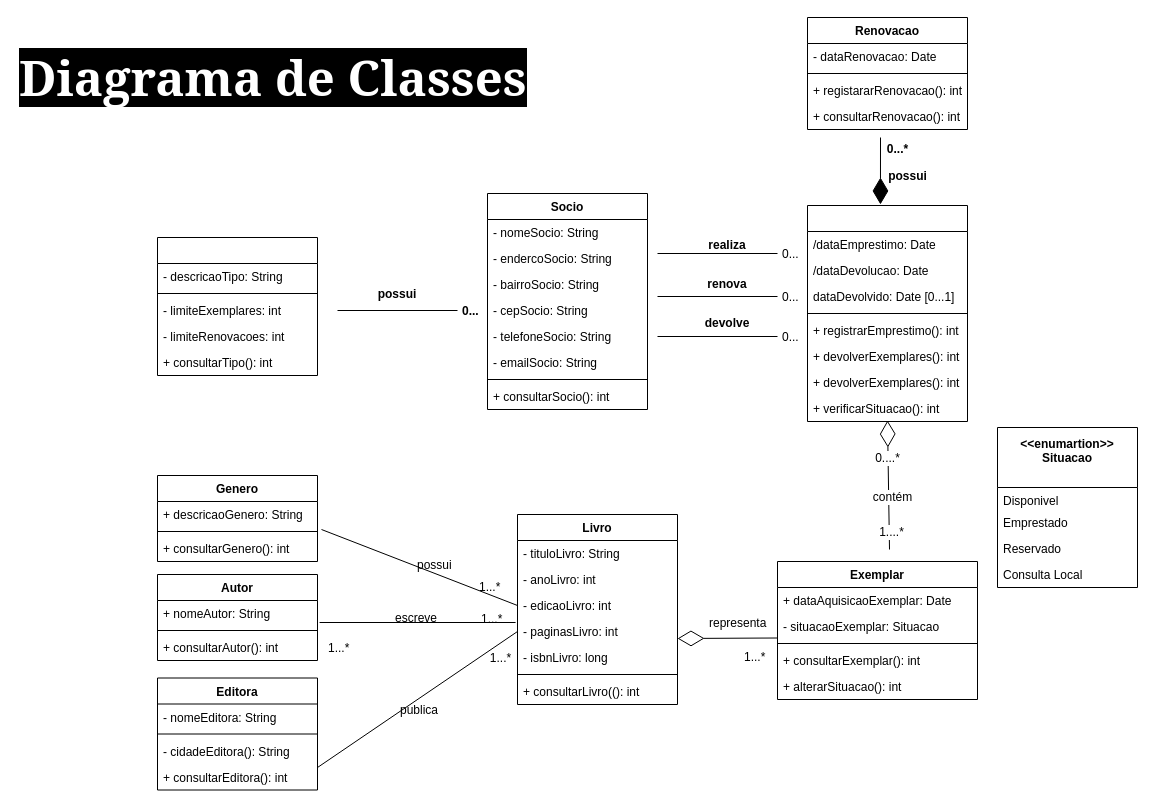
This 1155x810 diagram has some shape labels left out. The box of each missing label's shape, as (x1, y1, x2, y2) in pixels:
Emprestimos: (806, 204, 968, 422)
TipoSocio: (156, 236, 318, 376)
